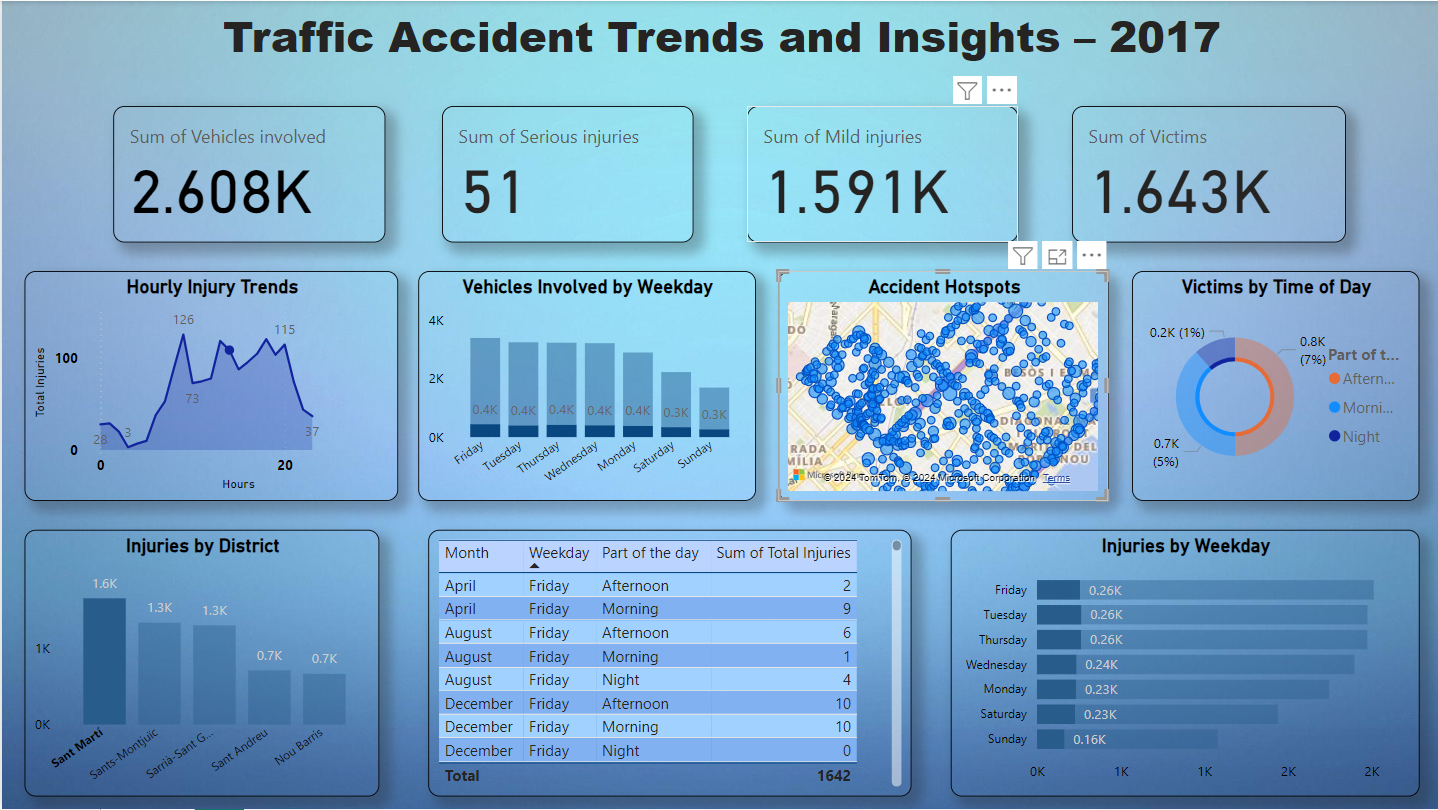

What the dashboard file says about the page in this screenshot:
{"tool":"powerbi","page":{"name":"Page 1","canvas":[1280,720],"ordinal":0},"visuals":[{"type":"cardVisual","fields":{"Data":["Sum(accidents_2017.Victims)"]},"box":[950.7,94.1,243.7,121.9],"z":0},{"type":"cardVisual","fields":{"Data":["Sum(accidents_2017.Serious injuries)"]},"box":[361.9,94.1,223.2,121.9],"z":1000},{"type":"clusteredColumnChart","title":"Injuries by District","fields":{"Category":["accidents_2017.District Name"],"Y":["Sum(accidents_2017.Total Injuries)"]},"box":[20.5,470.5,316.1,237.7],"z":2000},{"type":"clusteredBarChart","title":"Injuries by Weekday","fields":{"Category":["accidents_2017.Weekday"],"Y":["Sum(accidents_2017.Total Injuries)"]},"box":[844.5,470.5,417.4,237.7],"z":3000},{"type":"cardVisual","fields":{"Data":["Sum(accidents_2017.Vehicles involved)"]},"box":[65.1,94.1,243.7,121.9],"z":4000},{"type":"cardVisual","fields":{"Data":["Sum(accidents_2017.Mild injuries)"]},"box":[640.6,94.1,241.3,121.9],"z":5000},{"type":"tableEx","fields":{"Values":["accidents_2017.Month","accidents_2017.Weekday","accidents_2017.Part of the day","Sum(accidents_2017.Total Injuries)"]},"box":[380,470.5,430.7,237.7],"z":6000},{"type":"lineChart","title":"Hourly Injury Trends","fields":{"Category":["accidents_2017.Hour"],"Y":["Sum(accidents_2017.Total Injuries)"]},"box":[20.5,240.1,333,205.1],"z":7000},{"type":"map","title":"Accident Hotspots","fields":{"X":["accidents_2017.Longitude"],"Y":["accidents_2017.Latitude"],"Size":["Count(accidents_2017.Total Injuries)"]},"box":[691.3,240.1,294.4,205.1],"z":8000},{"type":"clusteredColumnChart","title":"Vehicles Involved by Weekday","fields":{"Category":["accidents_2017.Weekday"],"Y":["Sum(accidents_2017.Vehicles involved)"]},"box":[370.4,240.1,300.4,205.1],"z":9000},{"type":"donutChart","title":"Victims by Time of Day","fields":{"Category":["accidents_2017.Part of the day"],"Y":["Sum(accidents_2017.Victims)"]},"box":[1006.2,240.1,255.8,205.1],"z":10000},{"type":"textbox","box":[0,0,1280,66.4],"z":11000}]}

Visuals, with their boxes in screenshot pixels (x1, y1, x2, y2), scaled from the page's 1280x720 canvas onto the 1438x810 screenshot:
cardVisual - Sum(accidents_2017.Victims): 1068, 106, 1342, 243
cardVisual - Sum(accidents_2017.Serious injuries): 407, 106, 657, 243
"Injuries by District" clusteredColumnChart: 23, 529, 378, 797
"Injuries by Weekday" clusteredBarChart: 949, 529, 1418, 797
cardVisual - Sum(accidents_2017.Vehicles involved): 73, 106, 347, 243
cardVisual - Sum(accidents_2017.Mild injuries): 720, 106, 991, 243
tableEx - accidents_2017.Month x accidents_2017.Weekday: 427, 529, 911, 797
"Hourly Injury Trends" lineChart: 23, 270, 397, 501
"Accident Hotspots" map: 777, 270, 1107, 501
"Vehicles Involved by Weekday" clusteredColumnChart: 416, 270, 754, 501
"Victims by Time of Day" donutChart: 1130, 270, 1418, 501
textbox: 0, 0, 1437, 75
